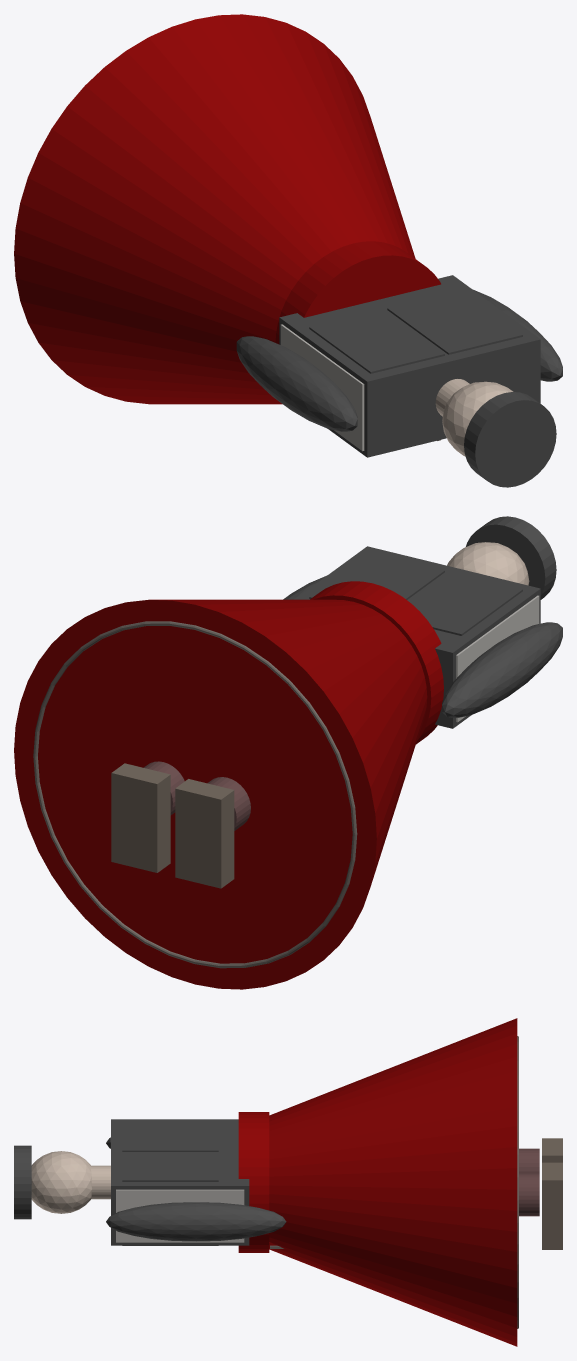
Rendered from MASTER_031_STAGE3_DETAIL.glb.
3 renders of one model, top to bottom at view 1: azimuth 30°, elevation 25°; view 2: azimuth 150°, elevation 25°; view 3: azimuth 270°, elevation 25°, orthographic. The views are drawn at different scales.
Visible parts, largest first — view 1: slot_lower_main__fund_i_gjatë, slot_upper_inner__këmishë, slot_waist__brez, slot_headwear__mbulesë_koke, slot_upper_inner_sleeve_L, slot_upper_outer__jelek/xhamadan_R, slot_upper_outer__jelek/xhamadan_L, mannequin_torso, mannequin_head, slot_upper_inner_sleeve_R; view 2: slot_lower_main__fund_i_gjatë, slot_footwear__opinga_R, slot_footwear__opinga_L, slot_upper_inner_sleeve_L, detail_skirt_hem, slot_waist__brez, slot_upper_outer__jelek/xhamadan_L, slot_upper_inner__këmishë, slot_headwear__mbulesë_koke, slot_upper_outer__jelek/xhamadan_R, mannequin_head, mannequin_torso (+2 smaller); view 3: slot_lower_main__fund_i_gjatë, slot_upper_inner_sleeve_R, slot_upper_inner__këmishë, mannequin_head, slot_waist__brez, slot_upper_outer__jelek/xhamadan_R, slot_upper_outer__jelek/xhamadan_L, mannequin_torso, slot_footwear__opinga_R, slot_headwear__mbulesë_koke, slot_legwear__çorape_R, mannequin_neck (+3 smaller).
Part boxes in pixels (x1,y1,x2,y2): slot_lower_main__fund_i_gjatë: (14, 14, 415, 404); slot_upper_inner__këmishë: (279, 275, 540, 457); slot_waist__brez: (275, 241, 440, 344); slot_headwear__mbulesë_koke: (464, 392, 556, 487); slot_upper_inner_sleeve_L: (236, 336, 357, 431); slot_upper_outer__jelek/xhamadan_R: (387, 290, 522, 354); slot_upper_outer__jelek/xhamadan_L: (309, 309, 444, 373); mannequin_torso: (280, 324, 364, 451); mannequin_head: (442, 381, 513, 456); slot_upper_inner_sleeve_R: (473, 289, 562, 381); slot_lower_main__fund_i_gjatë: (14, 599, 427, 989); slot_footwear__opinga_R: (111, 763, 170, 872); slot_footwear__opinga_L: (175, 779, 234, 888); slot_upper_inner_sleeve_L: (442, 622, 562, 717); detail_skirt_hem: (33, 621, 357, 968); slot_waist__brez: (310, 581, 443, 744); slot_upper_outer__jelek/xhamadan_L: (408, 571, 522, 635); slot_upper_inner__këmishë: (295, 546, 540, 728); slot_headwear__mbulesë_koke: (466, 516, 556, 599); slot_upper_outer__jelek/xhamadan_R: (309, 552, 444, 599); mannequin_head: (447, 542, 529, 585); mannequin_torso: (456, 595, 539, 722); slot_lower_main__fund_i_gjatë: (269, 1018, 517, 1346); slot_upper_inner_sleeve_R: (106, 1202, 286, 1241); slot_upper_inner__këmishë: (111, 1119, 249, 1245); mannequin_head: (31, 1151, 92, 1213); slot_waist__brez: (238, 1112, 269, 1252); slot_upper_outer__jelek/xhamadan_R: (122, 1152, 218, 1245); slot_upper_outer__jelek/xhamadan_L: (122, 1122, 218, 1151); mannequin_torso: (116, 1189, 244, 1242); slot_footwear__opinga_R: (542, 1162, 562, 1249); slot_headwear__mbulesë_koke: (14, 1145, 31, 1219); slot_legwear__çorape_R: (519, 1173, 539, 1216); mannequin_neck: (91, 1165, 110, 1199).
Size of the model in its own units: 1.03 by 1.03 by 1.71.
